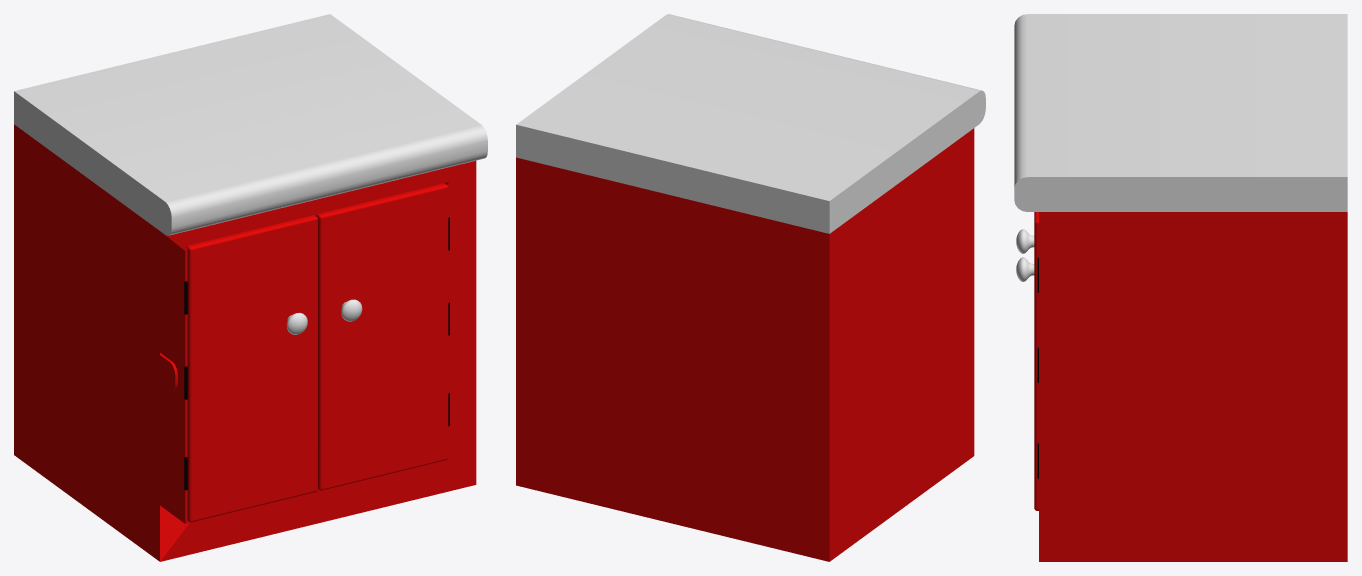
The model's file is bench_wCupboards.fbx.
The picture shows the model from 3 angles, left to right: view 1: azimuth 30°, elevation 25°; view 2: azimuth 150°, elevation 25°; view 3: azimuth 270°, elevation 25°; orthographic projection. The views are drawn at different scales.
Parts seen in each view (by area): view 1: Bench_wCupboards; view 2: Bench_wCupboards; view 3: Bench_wCupboards.
Boxes of the visible parts, x1=… form: Bench_wCupboards: x1=14, y1=14, x2=487, y2=561; Bench_wCupboards: x1=516, y1=14, x2=985, y2=561; Bench_wCupboards: x1=1014, y1=14, x2=1347, y2=561.
Bounding box in the file's own units: 75 × 82.5 × 64.8.
